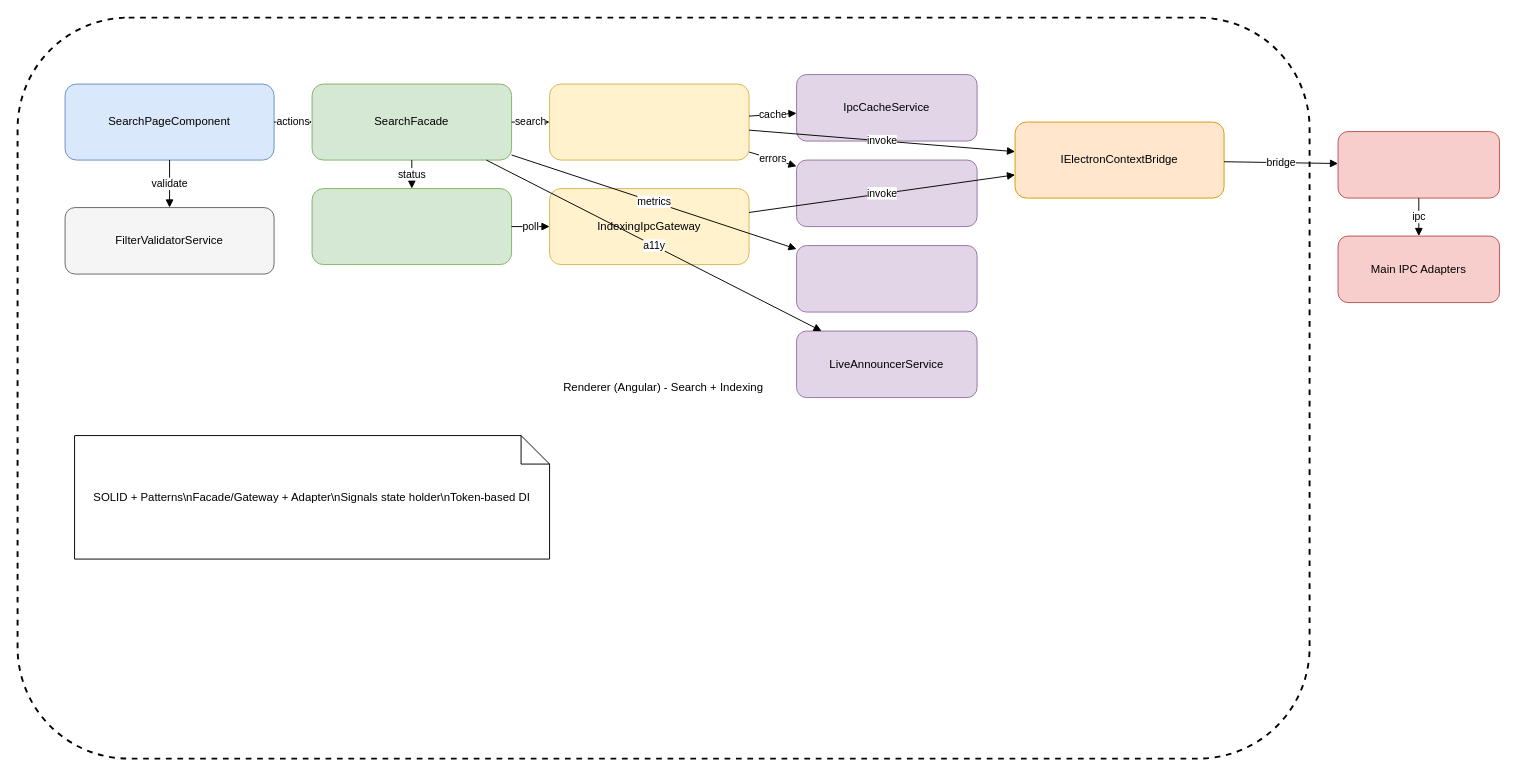
The diagram is 1516 pixels wide and 775 high, and some of its shapes have lost their labels. Each missing label, with the centre of its shape:
"IpcErrorHandlerService" goes at (886,193).
"Preload Bridge" goes at (1418,164).
"SearchIpcGateway" goes at (649,121).
"SemanticIndexFacade" goes at (411,226).
"TelemetryService" goes at (886,278).
